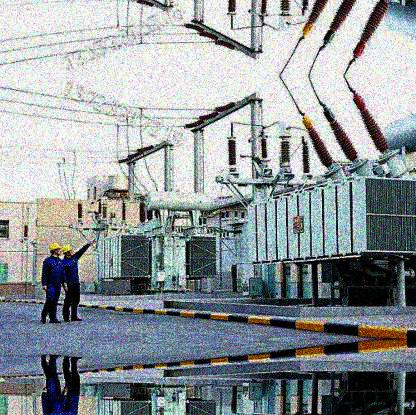helmet: (49, 242, 61, 257), (63, 246, 75, 258)
